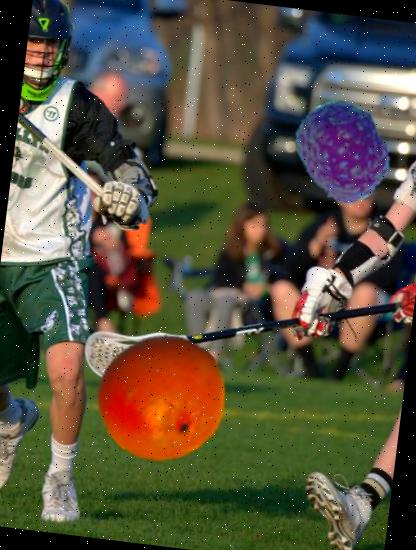Grapefruit: (90, 326, 234, 470)
Raspberry: (285, 93, 401, 210)
